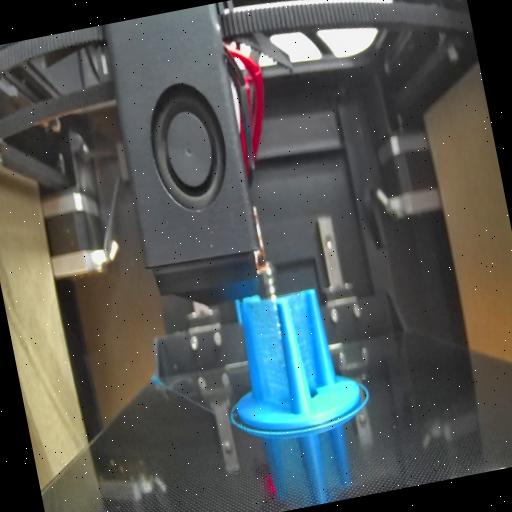stringing: (247, 302, 296, 424), (289, 290, 330, 400)
